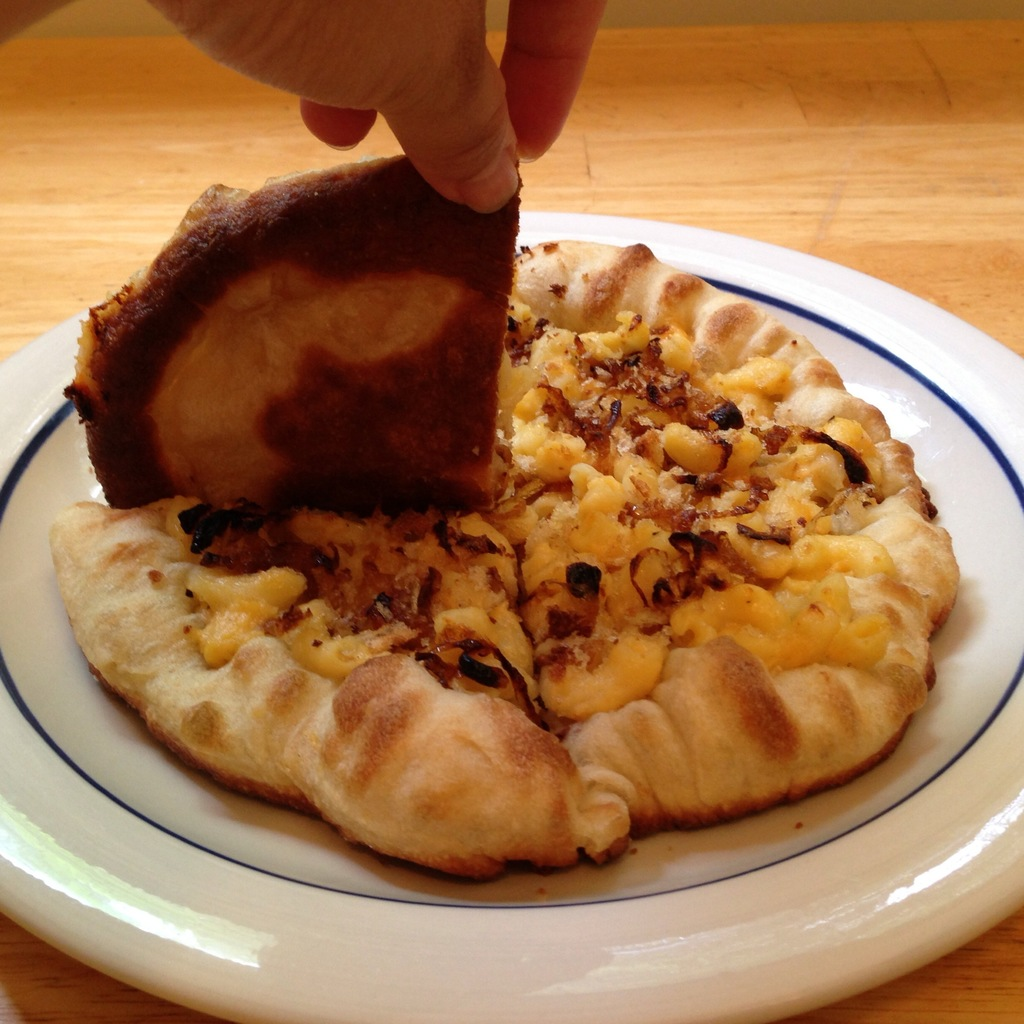Pizza: (56, 405, 566, 881), (508, 419, 967, 856), (83, 132, 494, 508), (483, 220, 891, 431)
